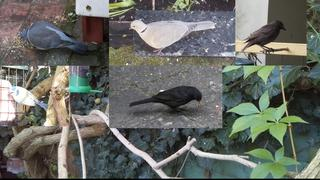blackbird: (129, 86, 202, 114)
blue tit: (8, 86, 49, 110)
collared dove: (129, 20, 215, 54)
starling: (241, 20, 287, 54)
wood pigeon: (20, 20, 89, 55)
